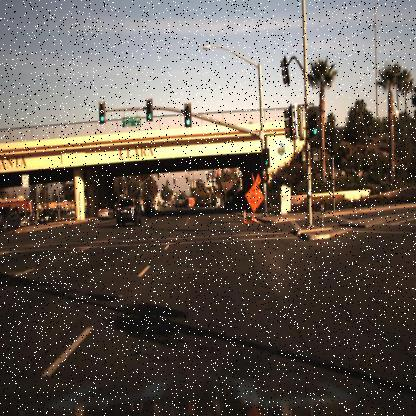car: (113, 194, 140, 231), (0, 204, 21, 232), (36, 203, 57, 230), (36, 203, 54, 224), (176, 194, 197, 210), (18, 209, 36, 227), (96, 203, 112, 222)
trafficLight-Green: (304, 100, 322, 148), (309, 106, 319, 144), (182, 100, 191, 129), (98, 100, 108, 126), (183, 102, 193, 128), (262, 144, 272, 170), (146, 98, 154, 124), (98, 104, 106, 126), (262, 151, 270, 170), (147, 100, 154, 118)
